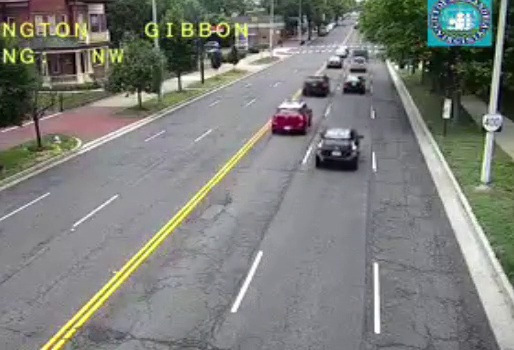car: (317, 129, 358, 164), (272, 103, 312, 133), (302, 75, 328, 96), (343, 76, 365, 92)
